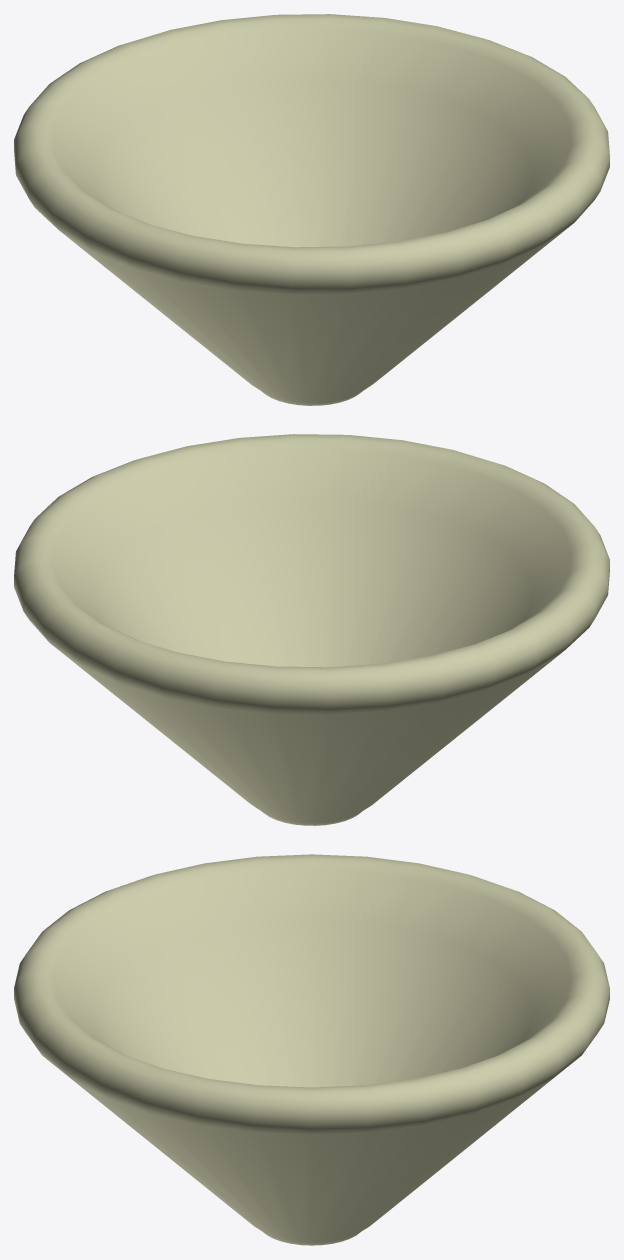
The model's file is LastLuna_Model_Station_Paper.fbx.
3 views of the same model, one above another, from view 1: azimuth 30°, elevation 25°; view 2: azimuth 150°, elevation 25°; view 3: azimuth 270°, elevation 25° (orthographic).
Parts seen in each view (by area): view 1: Paper001; view 2: Paper001; view 3: Paper001.
Boxes of the visible parts, x1,y1,x2,y2 form: Paper001: (14,14,609,405); Paper001: (14,434,609,825); Paper001: (14,854,609,1245).
Size of the model in its own units: 72.93 by 33.94 by 72.93.
